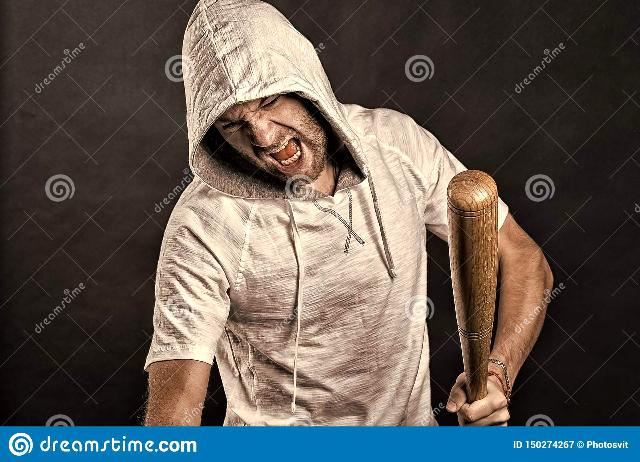baseball bat: (444, 164, 500, 410)
